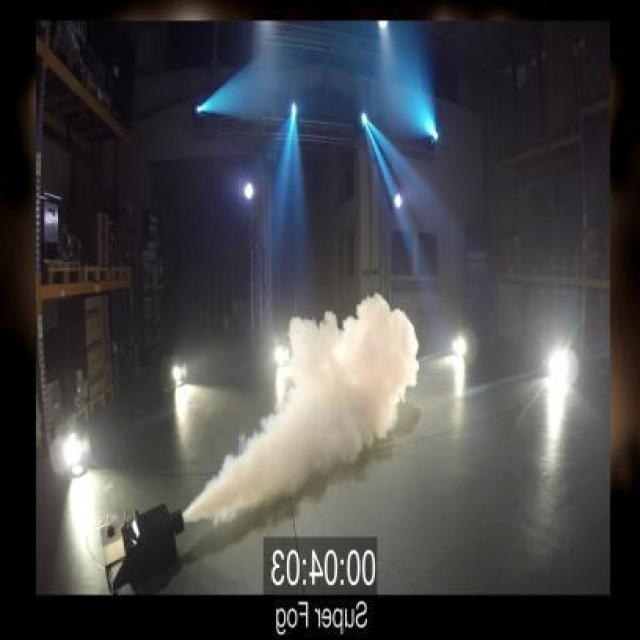fire: (206, 283, 423, 528)
